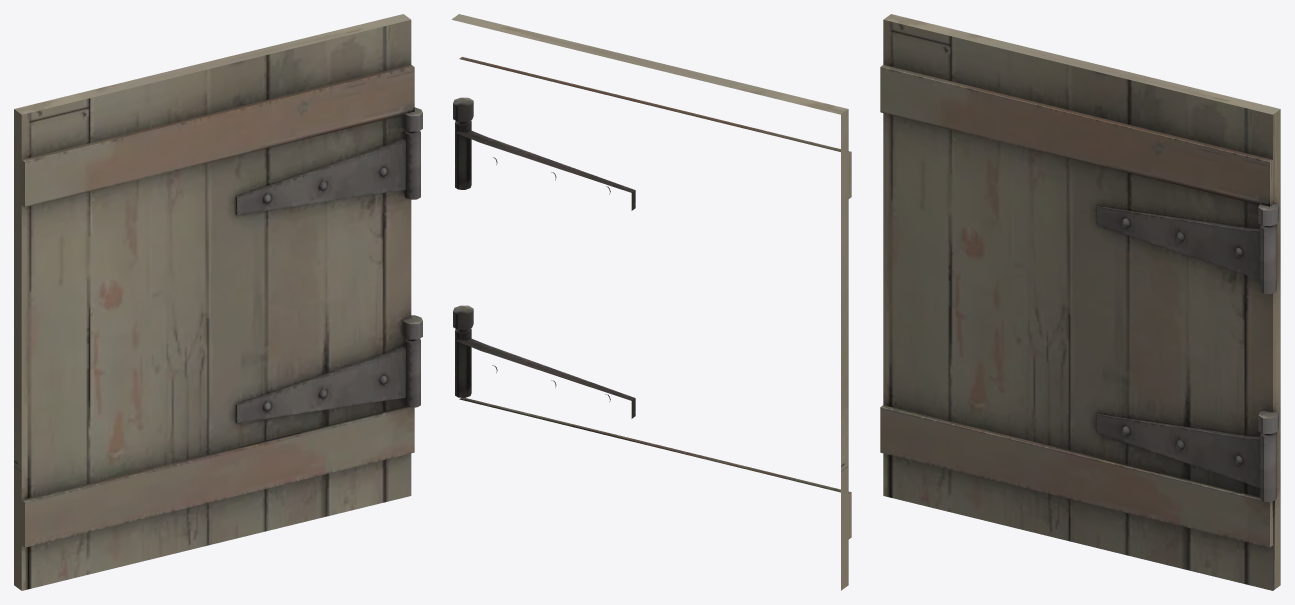
3 renders of one model, left to right at view 1: azimuth 30°, elevation 25°; view 2: azimuth 150°, elevation 25°; view 3: azimuth 330°, elevation 25°, orthographic.
Visible parts, largest first — view 1: body0_model0_lod0_mesh0; view 2: body0_model0_lod0_mesh0; view 3: body0_model0_lod0_mesh0.
Part boxes in pixels (x1,y1,x2,y2): body0_model0_lod0_mesh0: (14, 14, 422, 590); body0_model0_lod0_mesh0: (451, 14, 851, 590); body0_model0_lod0_mesh0: (880, 14, 1280, 590).
Bounding box in the file's own units: 73.37 × 84.1 × 5.21.
1 material, 1 textured.
